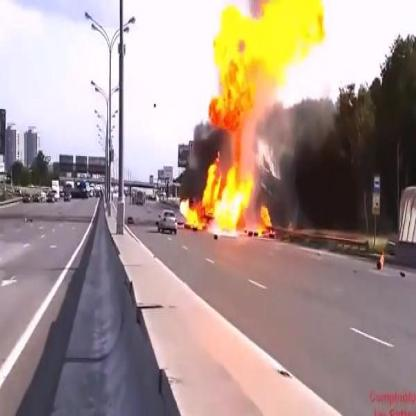fire: (201, 3, 328, 132), (175, 153, 276, 239), (380, 249, 386, 271)
